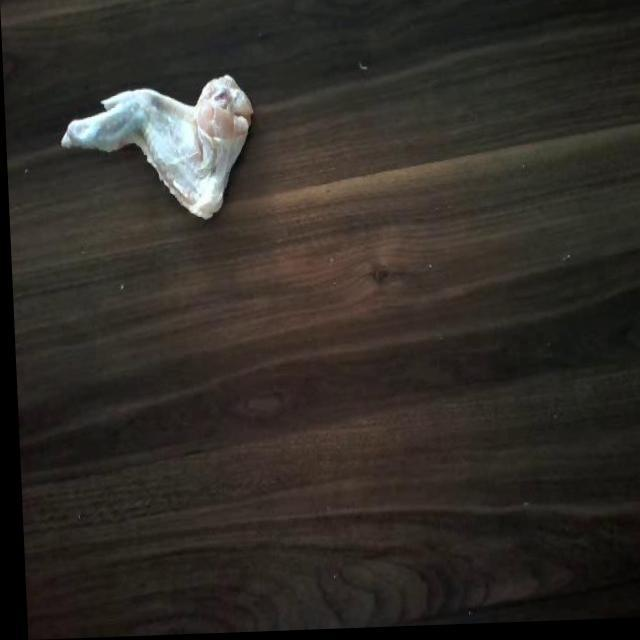wing: (47, 68, 259, 222)
